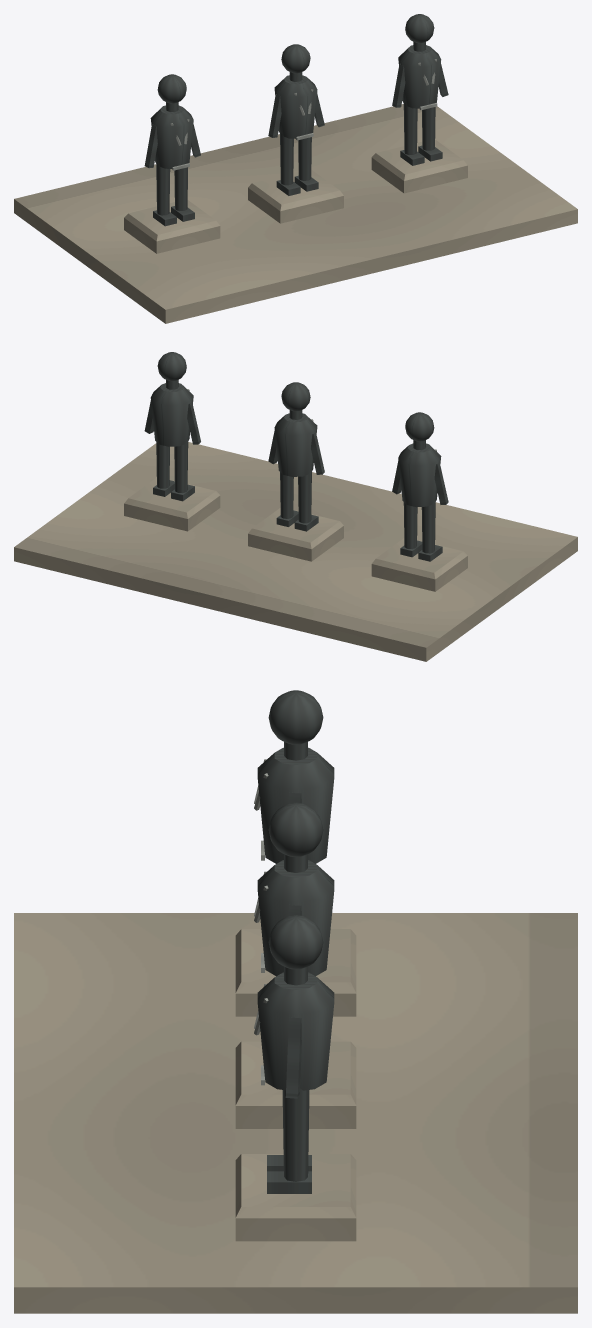
3 renders of one model, top to bottom at view 1: azimuth 30°, elevation 25°; view 2: azimuth 150°, elevation 25°; view 3: azimuth 270°, elevation 25°, orthographic. The views are drawn at different scales.
Parts seen in each view (by area): view 1: gaborone; view 2: gaborone; view 3: gaborone.
Part boxes in pixels (x1=…): gaborone: x1=14, y1=14, x2=577, y2=323; gaborone: x1=14, y1=352, x2=577, y2=661; gaborone: x1=14, y1=690, x2=577, y2=1313.
Bounding box in the file's own units: 5.5 × 2.2 × 3.5.
1 material, 1 textured.
